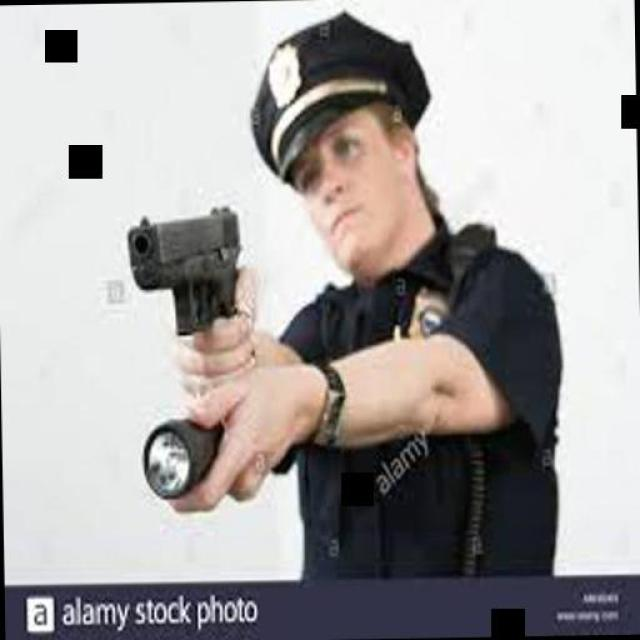gun: (124, 196, 246, 345)
